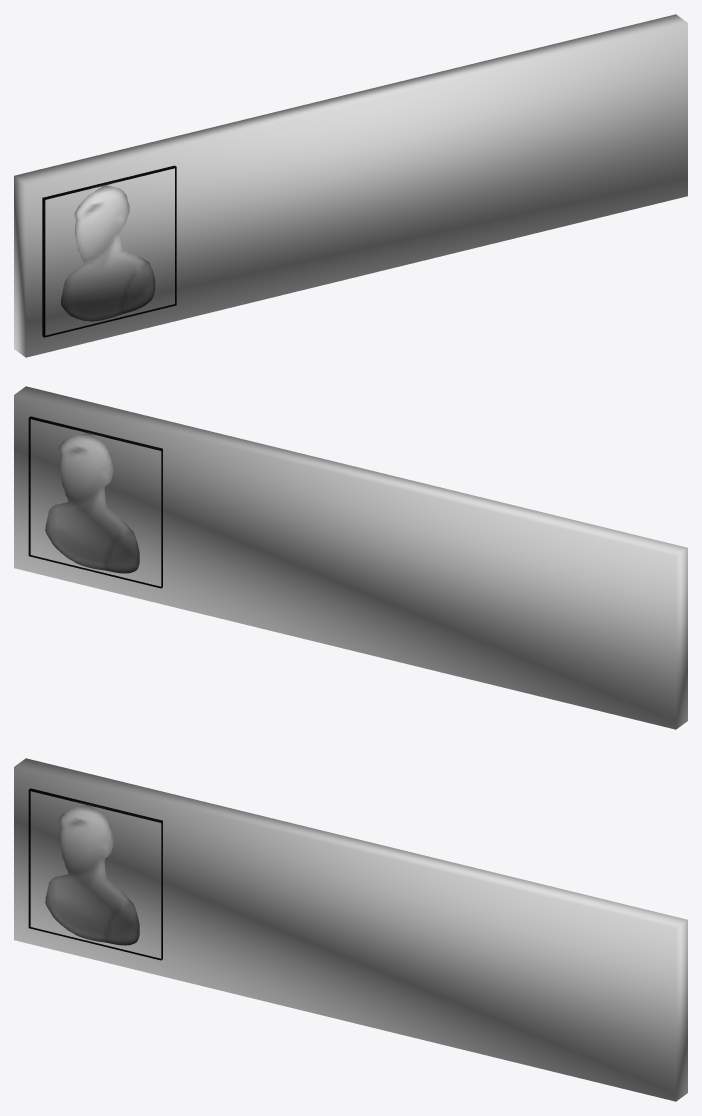
Rendered from label.fbx.
The picture shows the model from 3 angles, top to bottom: view 1: azimuth 30°, elevation 25°; view 2: azimuth 150°, elevation 25°; view 3: azimuth 330°, elevation 25°; orthographic projection.
Visible parts, largest first — view 1: label, avatar1; view 2: label, avatar2; view 3: label, avatar1.
Part boxes in pixels (bbox=[...]): label: bbox=[14, 14, 687, 357]; avatar1: bbox=[42, 165, 176, 337]; label: bbox=[14, 386, 687, 729]; avatar2: bbox=[28, 416, 162, 588]; label: bbox=[14, 758, 687, 1101]; avatar1: bbox=[28, 788, 162, 960].
Size of the model in its own units: 40 by 10 by 1.62.
